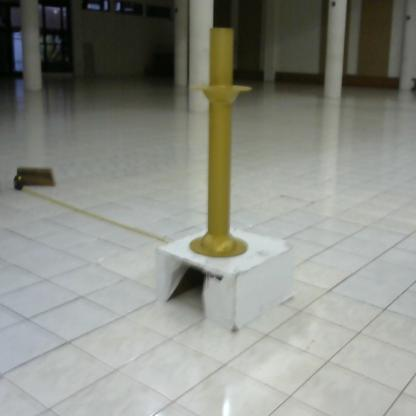pole: (184, 26, 260, 268)
